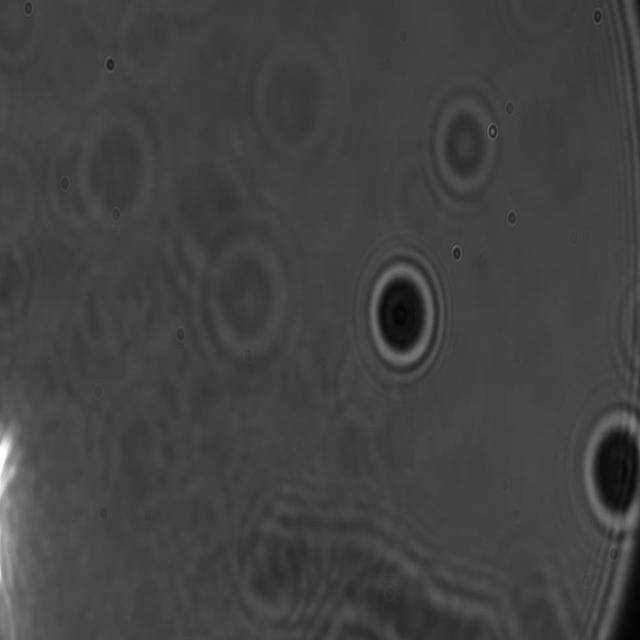DCELL: (360, 246, 445, 386)
